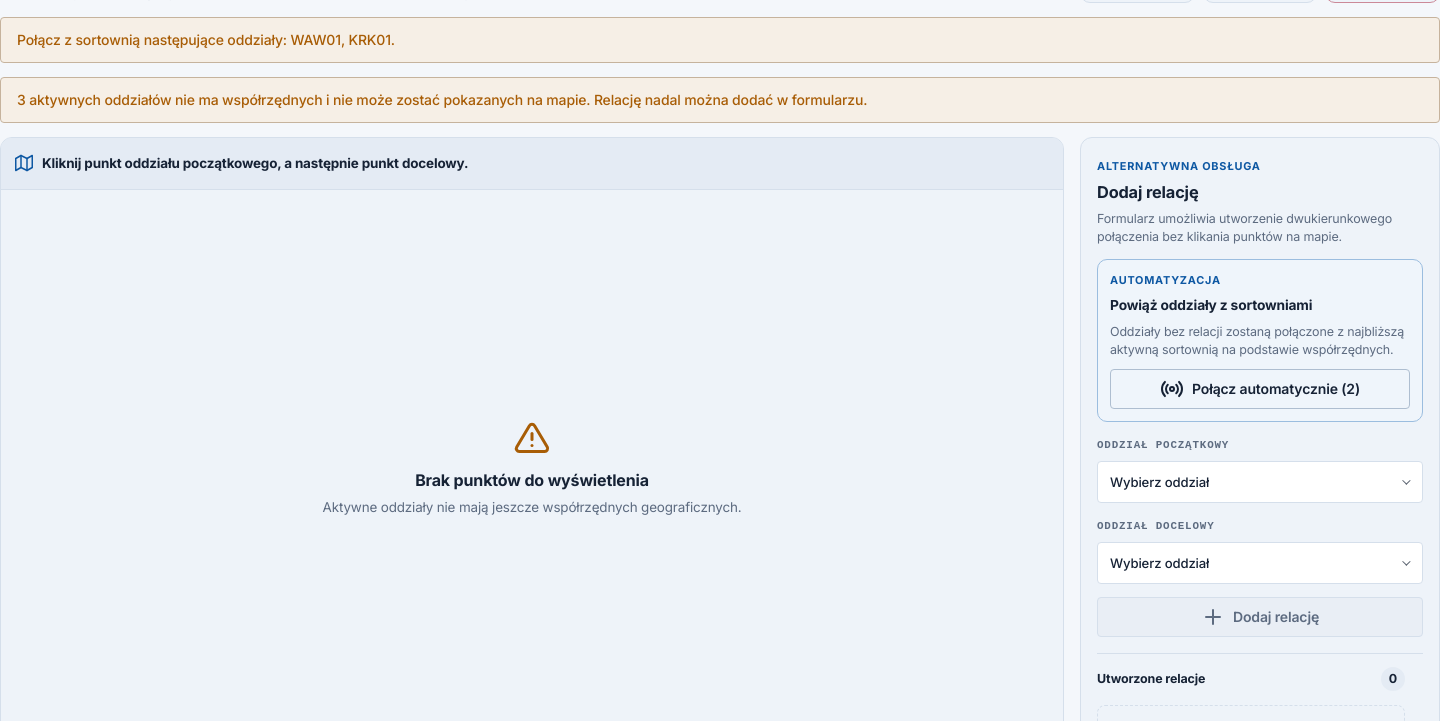
it: DepartmentRelationsMap › creates and removes one bidirectional relation with the accessible form
Replace the text in the dropdown named "Oddział początkowy" with "1" at x=1160, y=482, box [1098,462,1422,501]
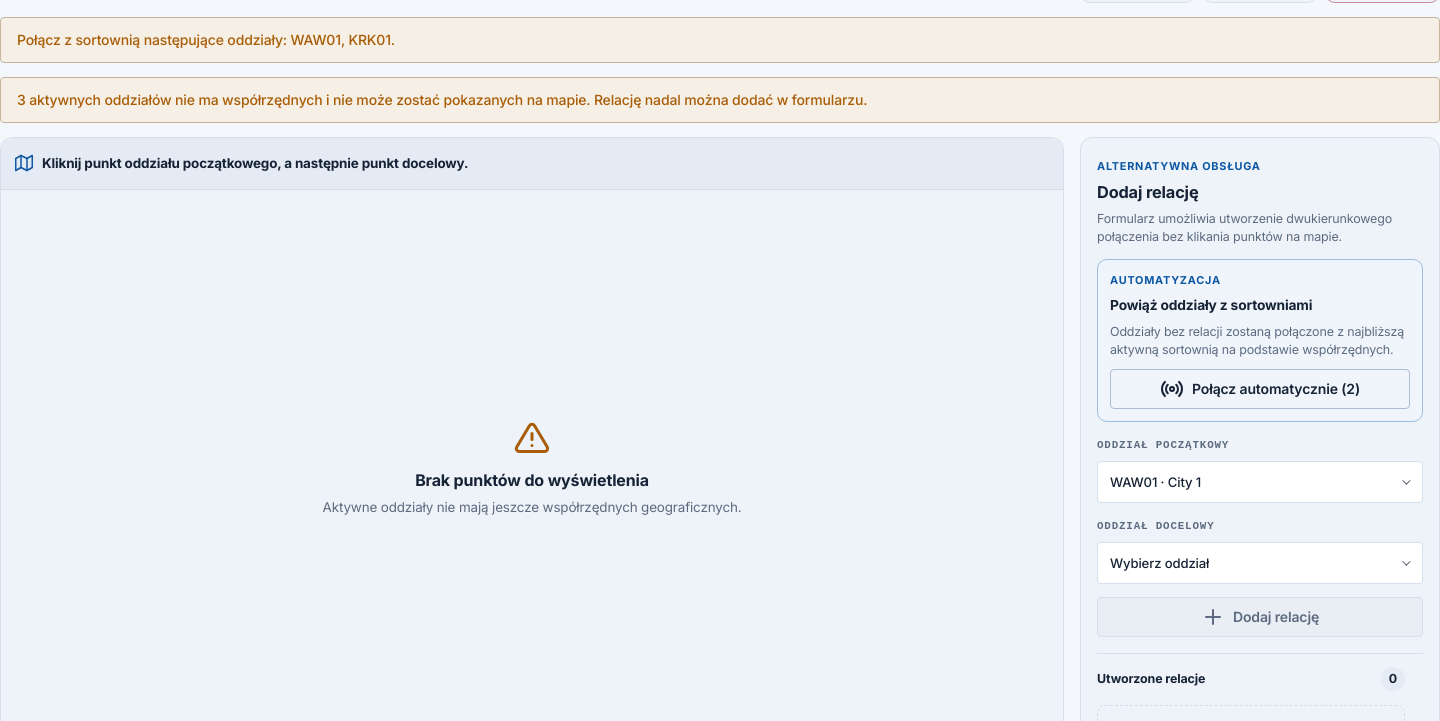
Replace the text in the dropdown named "Oddział docelowy" with "2" at x=1160, y=563, box [1098,543,1422,582]
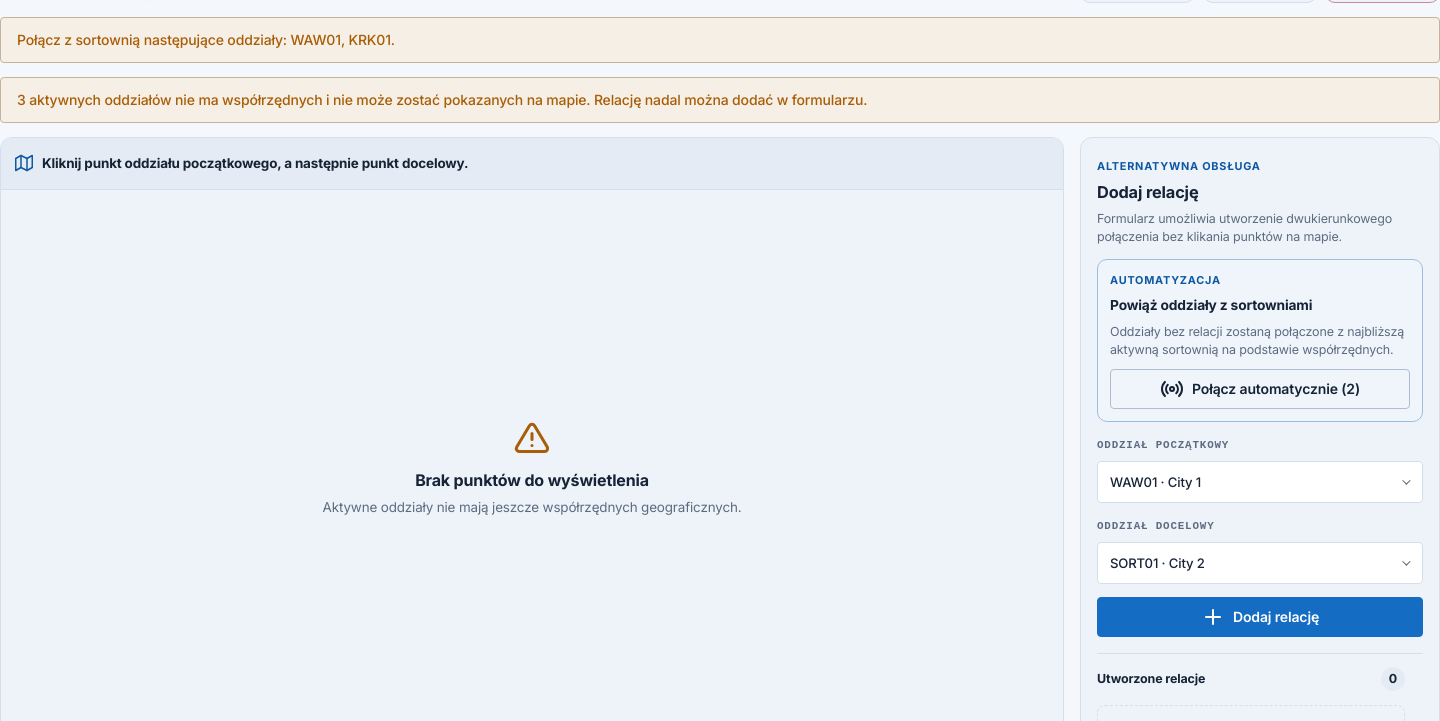
Click the button "Dodaj relację" at x=1260, y=617, box [1097,597,1423,637]
(page scrolled)
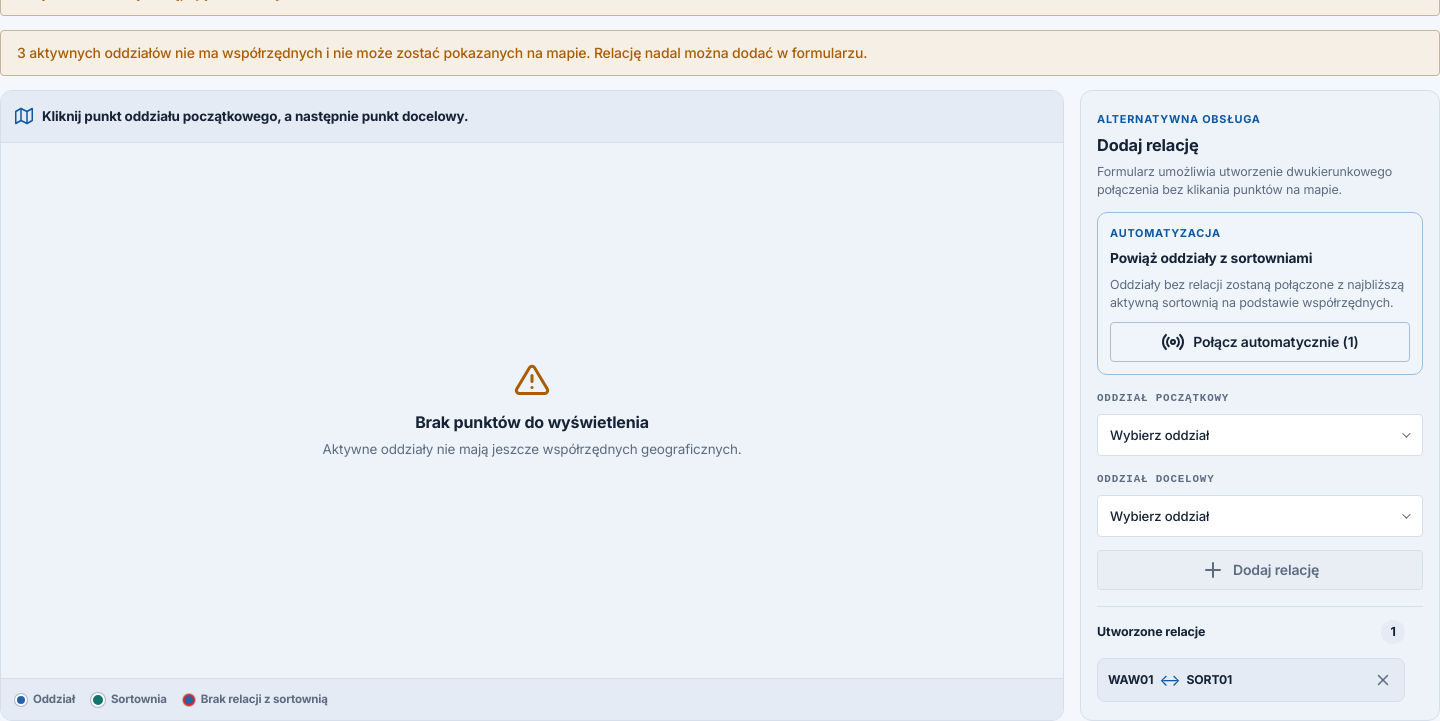
Expected: the text "↔" is shown, [1159,668,1181,692]
Click the button named "Usuń relację WAW01 ↔ SORT01" at x=1383, y=680, box [1369,666,1397,694]
(page scrolled)
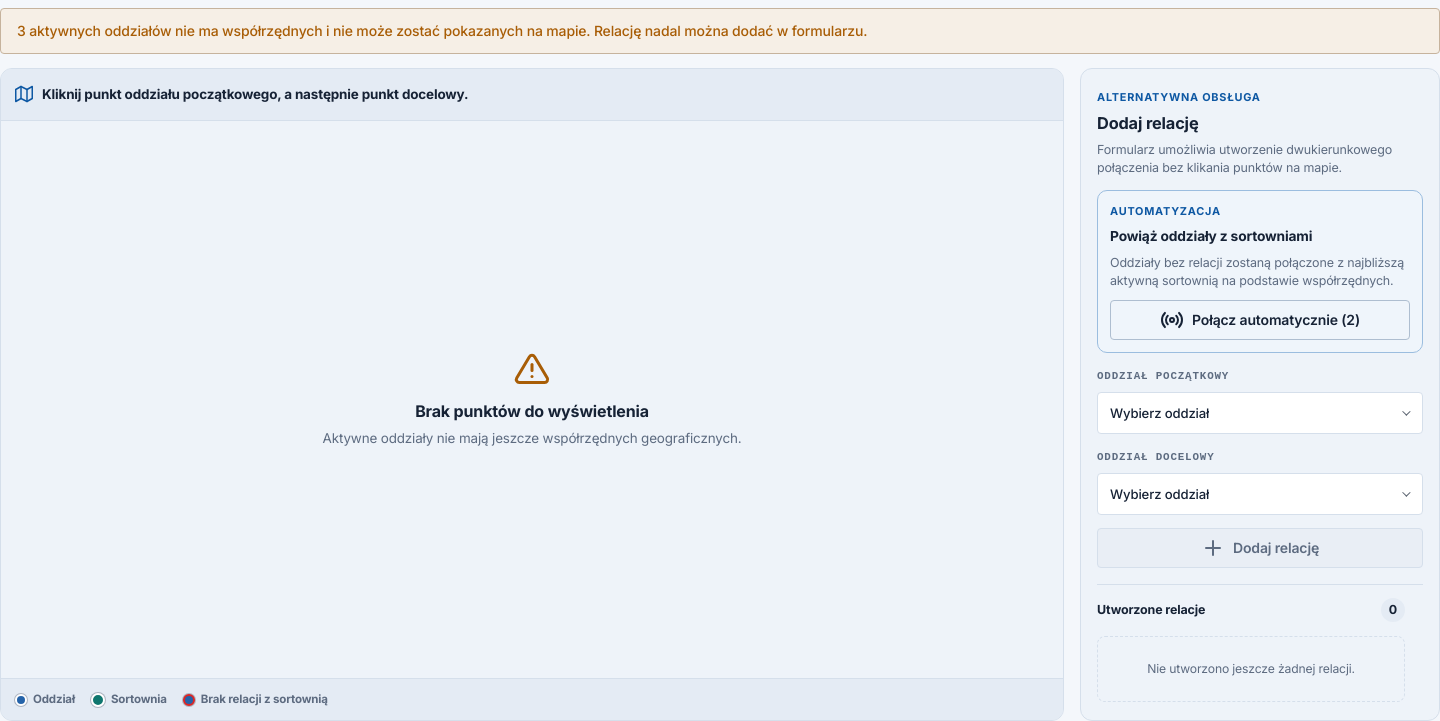
Expected: the text "Nie utworzono jeszcze żadnej relacji." is shown, [1097,636,1405,702]
